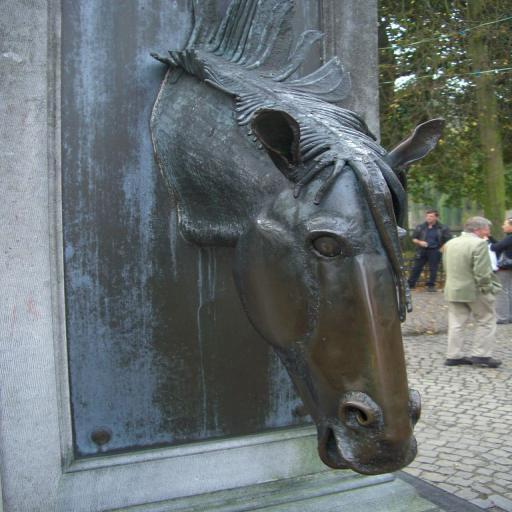horse: (149, 0, 447, 477)
